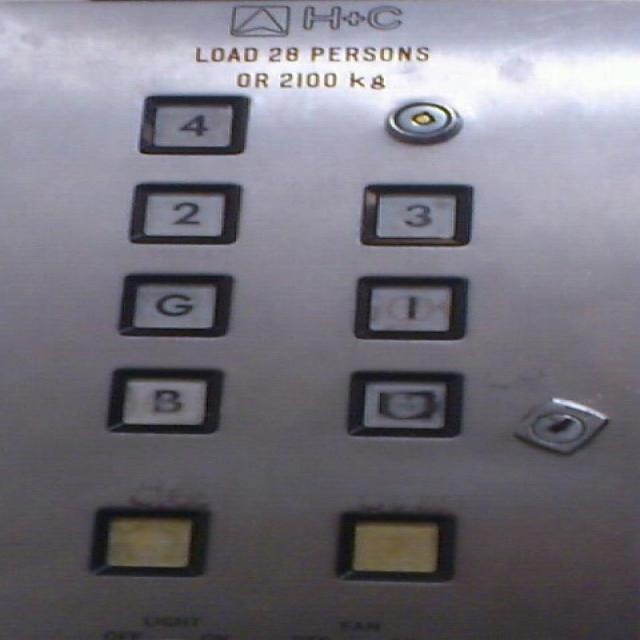1: (348, 273, 471, 342)
2: (124, 178, 247, 248)
3: (359, 181, 476, 248)
4: (135, 90, 252, 158)
B: (102, 365, 230, 437)
G: (114, 271, 234, 337)
blur: (342, 366, 462, 440)
empty: (335, 509, 457, 586), (84, 506, 211, 578)
keyhole: (506, 395, 610, 458), (381, 99, 471, 147)
